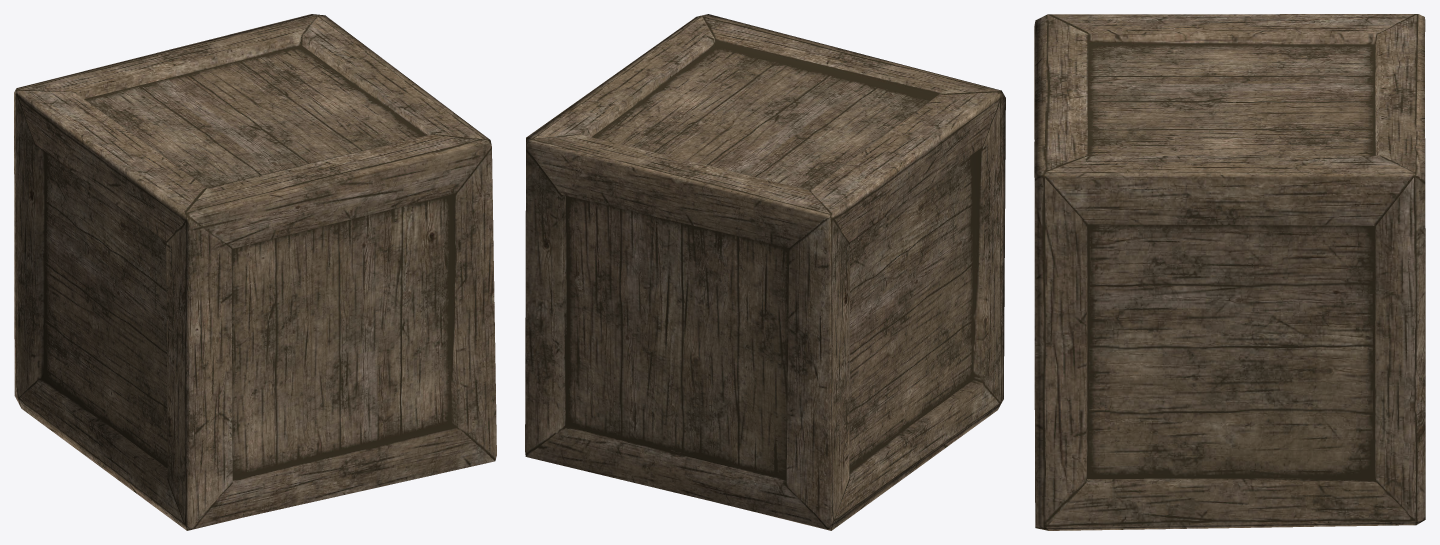
The model's file is box_wooden.gltf.
3 views of the same model, side by side, from view 1: azimuth 30°, elevation 25°; view 2: azimuth 150°, elevation 25°; view 3: azimuth 270°, elevation 25° (orthographic). The views are drawn at different scales.
Parts seen in each view (by area): view 1: Crate_low; view 2: Crate_low; view 3: Crate_low.
Part boxes in pixels (bbox=[...]): Crate_low: bbox=[14, 14, 496, 530]; Crate_low: bbox=[525, 14, 1005, 530]; Crate_low: bbox=[1034, 14, 1425, 530].
Size of the model in its own units: 2 by 2 by 2.
Materials: 1 (1 with a texture image).
